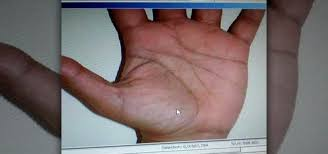palm: (126, 26, 235, 135)
